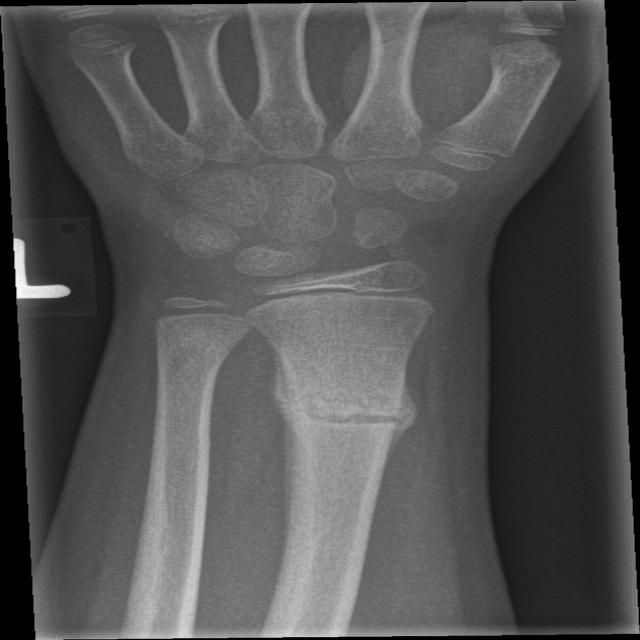radius fracture: (253, 352, 450, 491)
